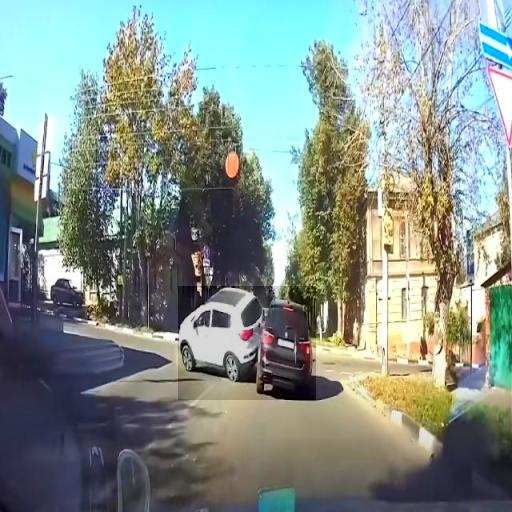小汽车撞小汽车: (178, 286, 316, 400)
